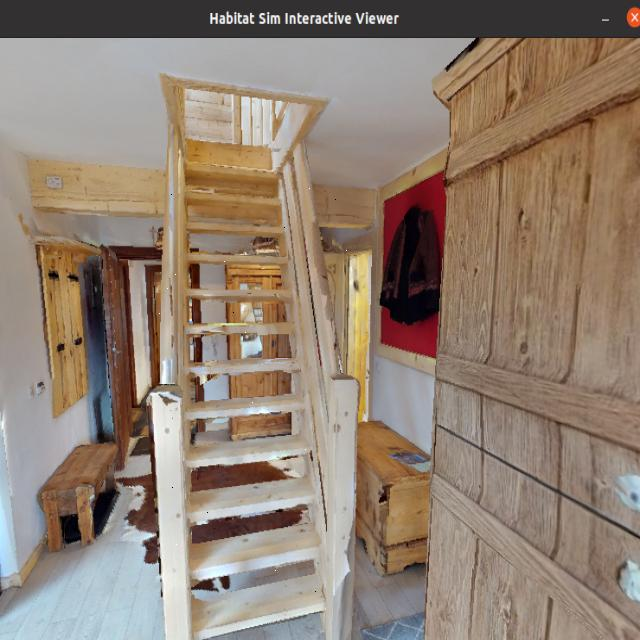stairs: (142, 69, 367, 640)
